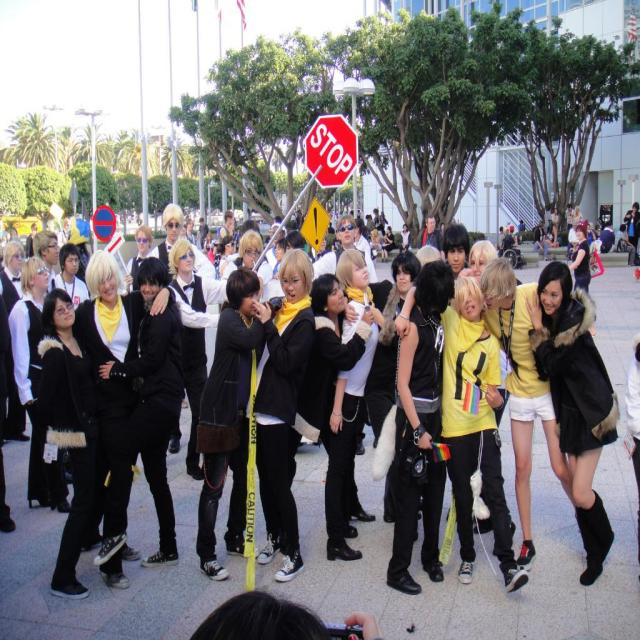Stop-sign: (302, 112, 359, 192)
